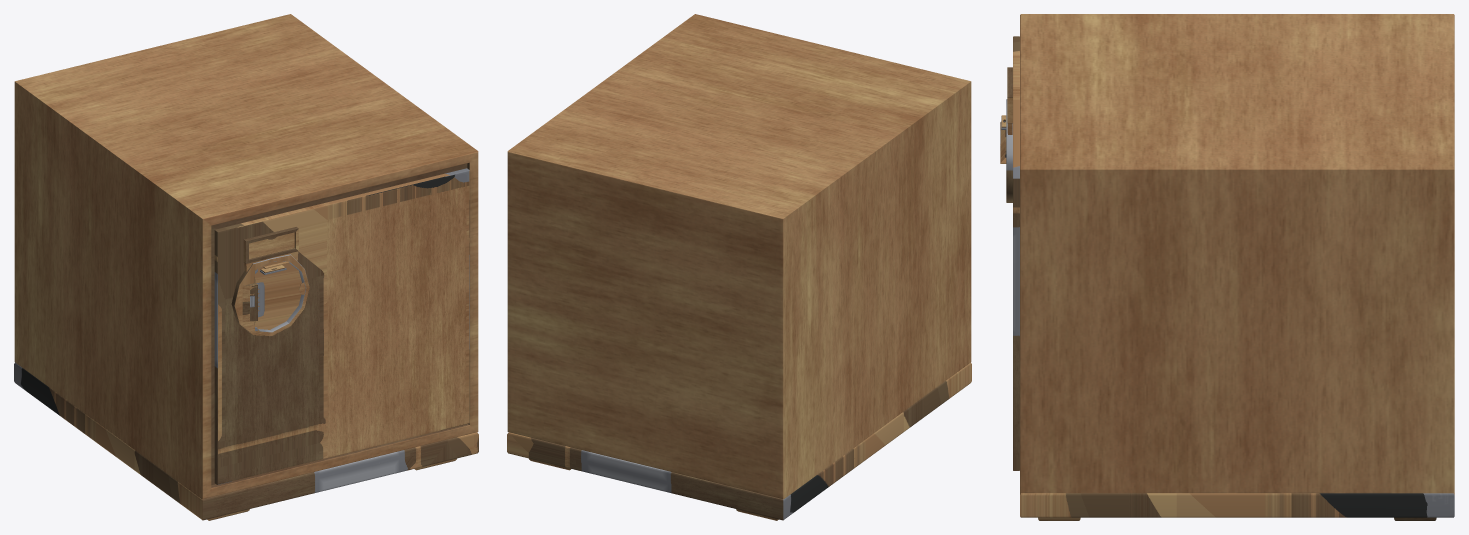
File: CabinetModel.fbx
The picture shows the model from 3 angles, left to right: view 1: azimuth 30°, elevation 25°; view 2: azimuth 150°, elevation 25°; view 3: azimuth 270°, elevation 25°; orthographic projection. The views are drawn at different scales.
Parts seen in each view (by area): view 1: cabinetbody_GEO, cabinet_door_GEO, cabinet_stand_GEO, cabinet_handle_GEO; view 2: cabinetbody_GEO, cabinet_stand_GEO; view 3: cabinetbody_GEO, cabinet_stand_GEO, cabinet_door_GEO, cabinet_handle_GEO.
Part boxes in pixels (bbox=[...]): cabinetbody_GEO: bbox=[14, 14, 478, 499]; cabinet_door_GEO: bbox=[214, 168, 469, 484]; cabinet_stand_GEO: bbox=[14, 362, 478, 520]; cabinet_handle_GEO: bbox=[231, 227, 309, 336]; cabinetbody_GEO: bbox=[507, 14, 971, 499]; cabinet_stand_GEO: bbox=[507, 362, 971, 520]; cabinetbody_GEO: bbox=[1020, 14, 1454, 493]; cabinet_stand_GEO: bbox=[1020, 492, 1454, 520]; cabinet_door_GEO: bbox=[1013, 36, 1019, 470]; cabinet_handle_GEO: bbox=[1000, 67, 1012, 202].
Bounding box in the file's own units: 46.3 × 50.04 × 57.17.
Materials: 1 (1 with a texture image).
